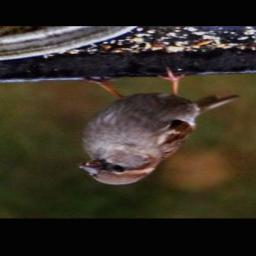Sparrow: (74, 65, 239, 187)
